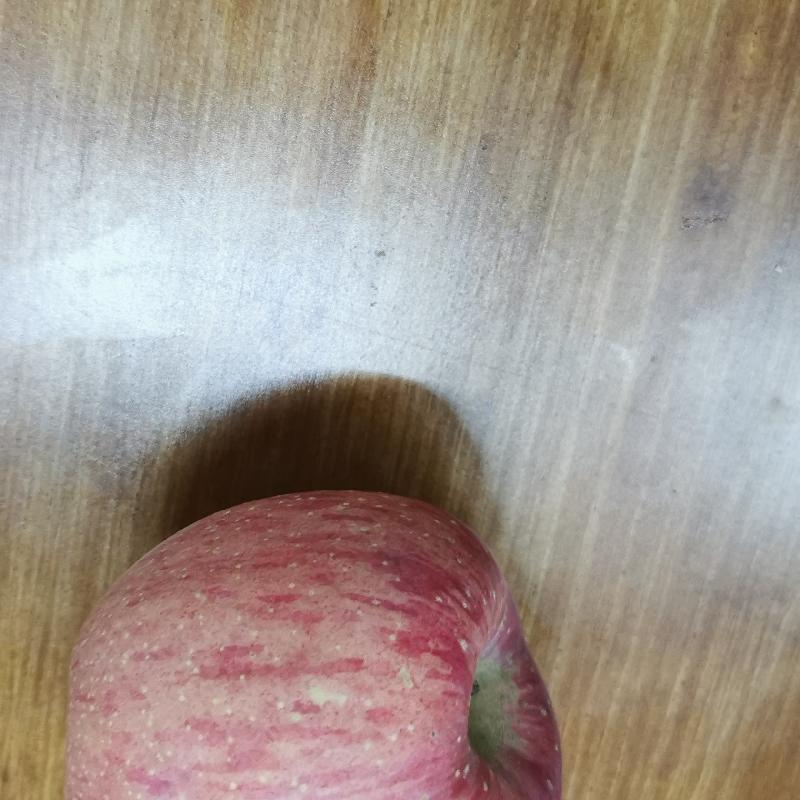apples: (55, 484, 566, 800)
